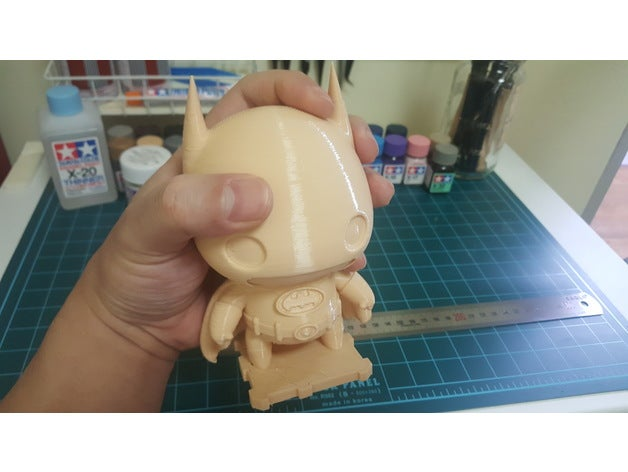Good: (157, 63, 415, 414)
